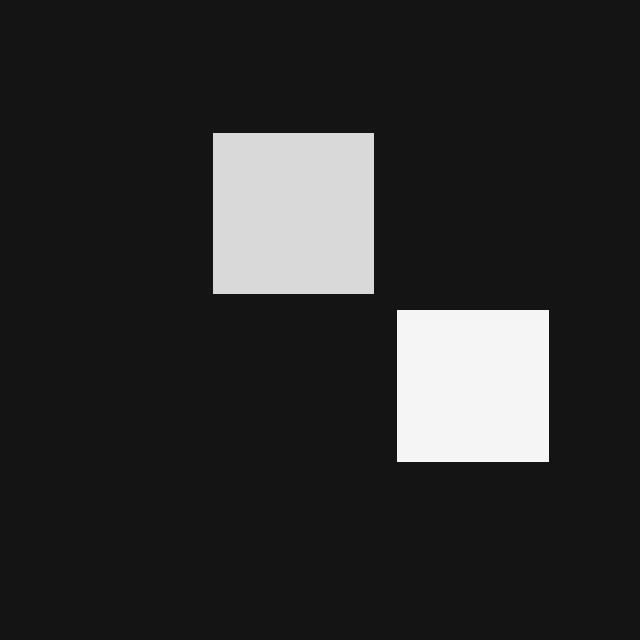square: (213, 133, 373, 293), (397, 310, 548, 461)
